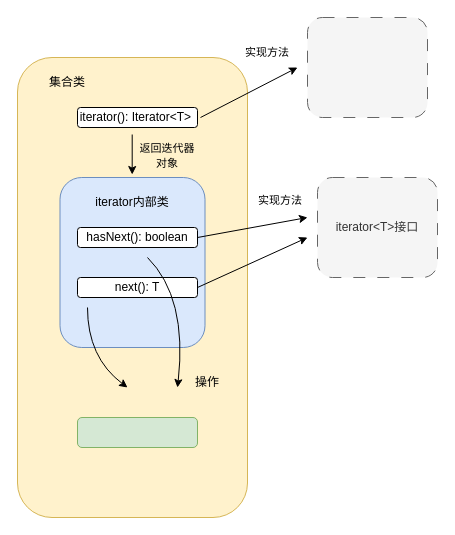
The diagram is 455 pixels wide and 535 high, and some of its shapes have lost their labels. The shapes that lost their labels are listed below. From the top down, each one's centre as x and y in pixels, then its label:
the point at 367,67: collections接口
the point at 137,432: 内部容器数组Array<T>
